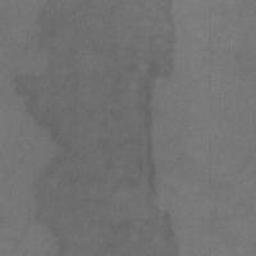Water spot: (13, 0, 179, 256)
